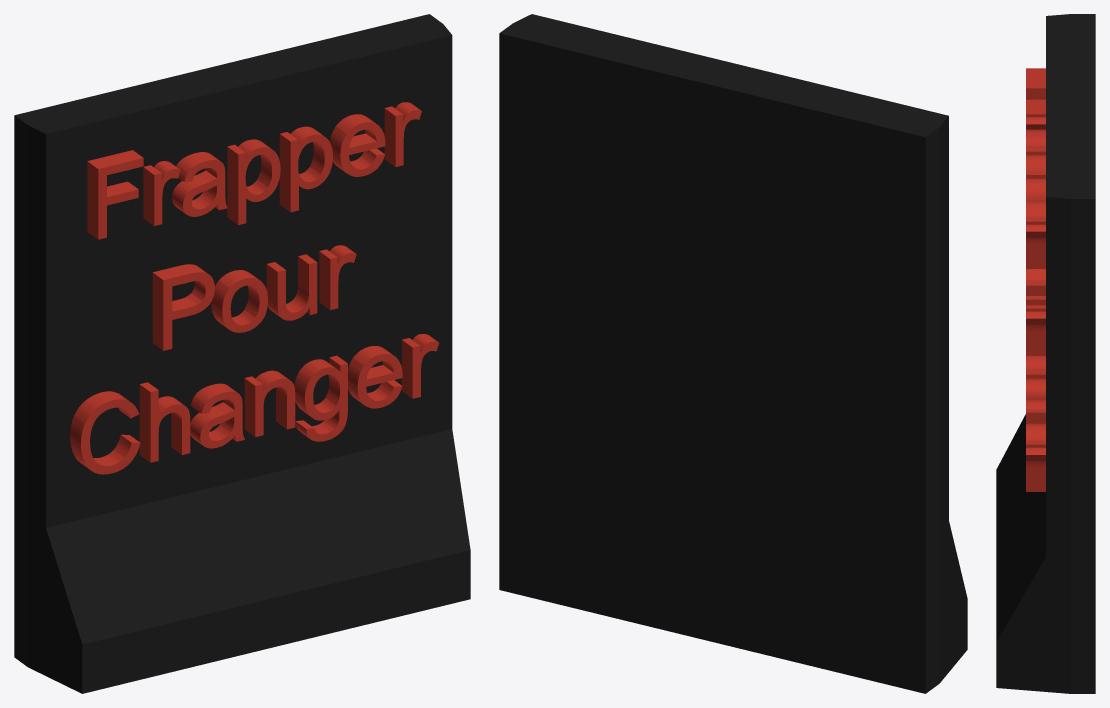
File: Bouton Changer v5.fbx
3 renders of one model, left to right at view 1: azimuth 30°, elevation 25°; view 2: azimuth 150°, elevation 25°; view 3: azimuth 270°, elevation 25°, orthographic. The views are drawn at different scales.
Parts seen in each view (by area): view 1: Body1; view 2: Body1; view 3: Body1.
Boxes of the visible parts, bbox=[...] form: Body1: bbox=[14, 14, 470, 693]; Body1: bbox=[499, 14, 967, 693]; Body1: bbox=[996, 14, 1095, 693].
Bounding box in the file's own units: 4.4 × 5.49 × 1.
